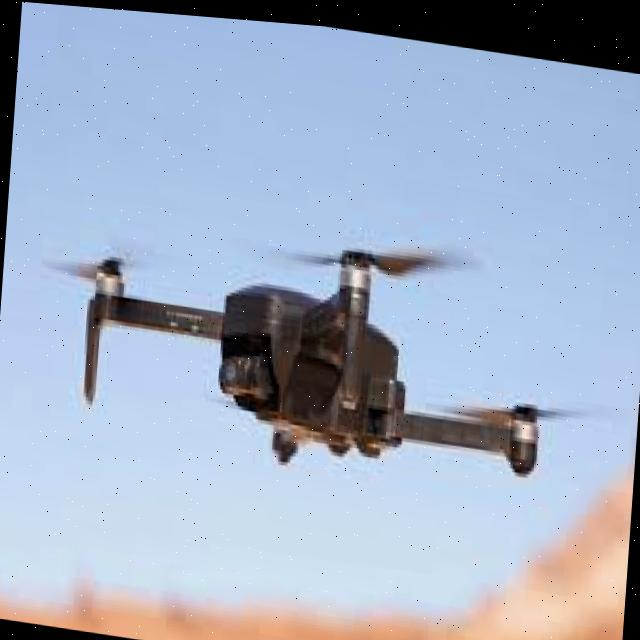drone: (33, 177, 618, 533)
